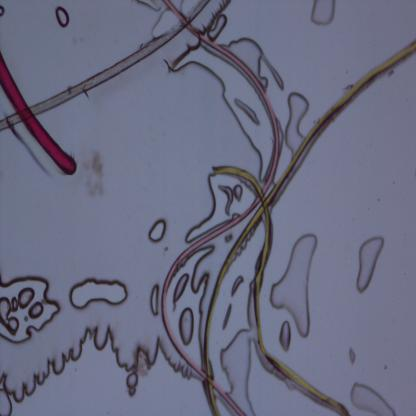Air bubble: (0, 323, 166, 403), (168, 41, 264, 173), (216, 279, 257, 415), (270, 229, 318, 339), (0, 274, 60, 345), (230, 34, 284, 92), (182, 175, 216, 245), (191, 242, 215, 332), (69, 277, 129, 310), (355, 234, 386, 294), (284, 92, 310, 154), (350, 381, 396, 415), (82, 148, 107, 200), (0, 296, 19, 336), (234, 98, 260, 127), (310, 0, 337, 27), (179, 307, 195, 346), (207, 13, 229, 41), (172, 276, 189, 304), (278, 320, 292, 353), (148, 219, 167, 243), (149, 283, 160, 317), (0, 388, 13, 415), (54, 5, 70, 26), (18, 288, 34, 308), (28, 301, 44, 320), (222, 304, 233, 330), (230, 276, 244, 296), (127, 371, 138, 396), (138, 0, 160, 11), (0, 4, 6, 17)
Background material: (8, 124, 53, 180), (218, 181, 244, 214), (348, 348, 356, 363)
Microfibre: (204, 43, 416, 416), (163, 1, 280, 415), (212, 165, 350, 415), (0, 0, 210, 132), (0, 53, 77, 179)
